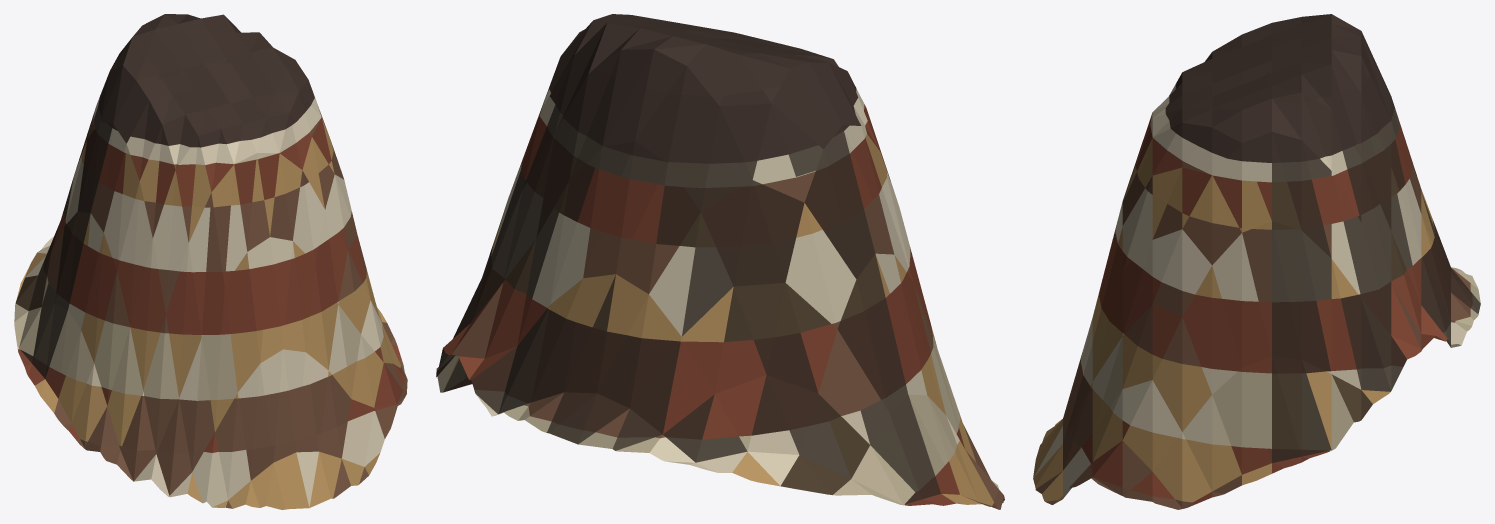
The model's file is dam_eye_fall_spire_east.glb.
The picture shows the model from 3 angles, left to right: view 1: azimuth 30°, elevation 25°; view 2: azimuth 150°, elevation 25°; view 3: azimuth 270°, elevation 25°; orthographic projection. The views are drawn at different scales.
Visible parts, largest first — view 1: dam_eye_fall_spire_east; view 2: dam_eye_fall_spire_east; view 3: dam_eye_fall_spire_east.
Part boxes in pixels (box(x1,y1,x2,y2)): dam_eye_fall_spire_east: box(14, 14, 407, 509); dam_eye_fall_spire_east: box(436, 14, 1004, 509); dam_eye_fall_spire_east: box(1033, 14, 1480, 509).
Size of the model in its own units: 30 by 32.64 by 30.
